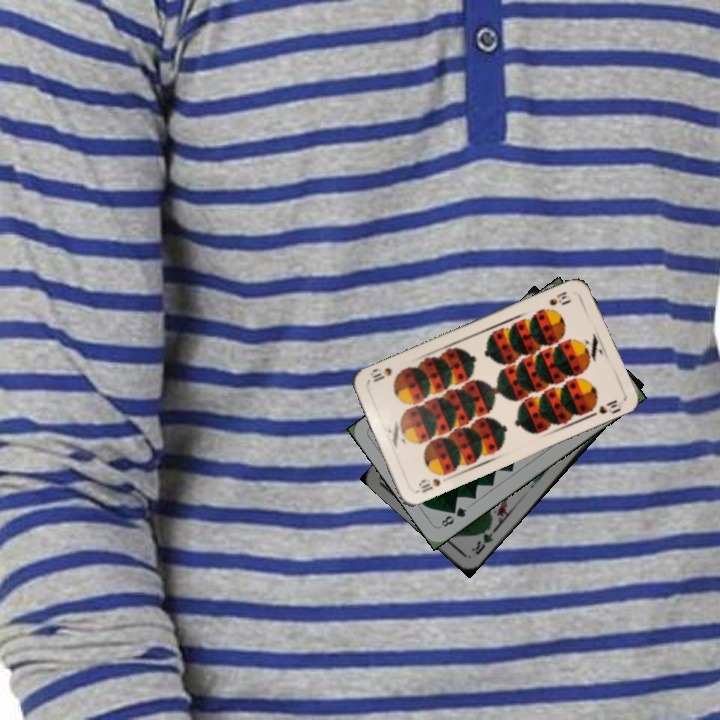G8: (437, 503, 470, 530)
GK: (467, 521, 498, 558)
S10: (414, 474, 443, 495), (545, 287, 573, 308)
